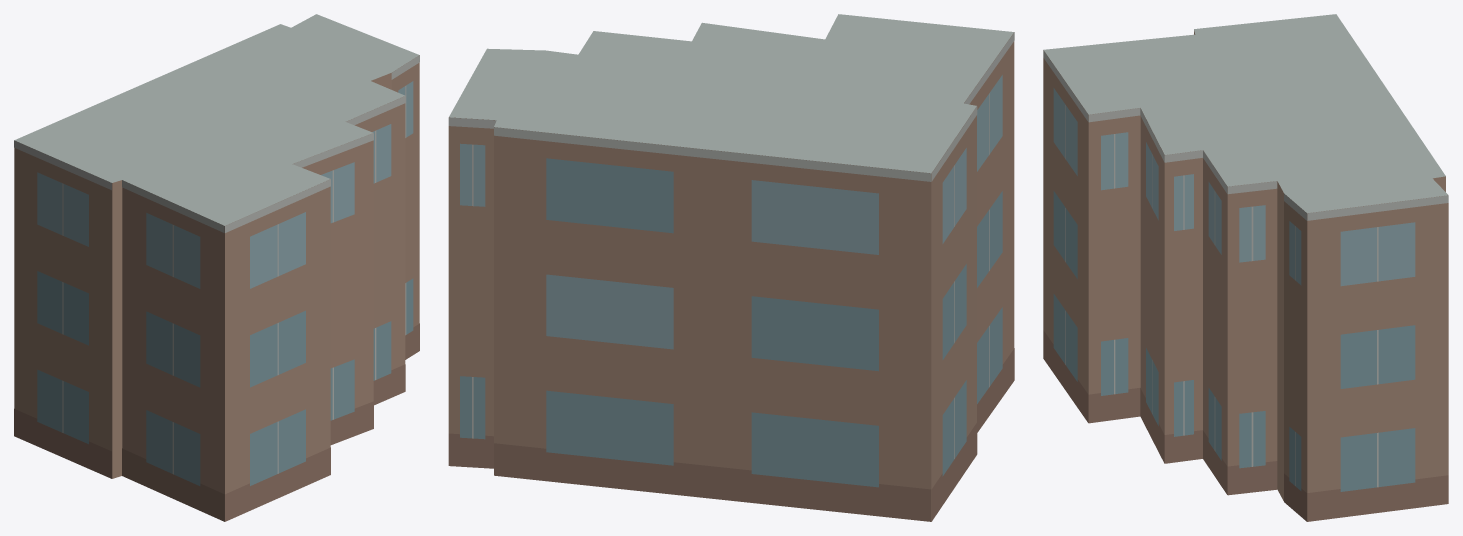
Rendered from survey-upis-32728031.glb.
3 renders of one model, left to right at view 1: azimuth 30°, elevation 25°; view 2: azimuth 150°, elevation 25°; view 3: azimuth 270°, elevation 25°, orthographic. The views are drawn at different scales.
Visible parts, largest first — view 1: survey-upis-32728031.tmp; view 2: survey-upis-32728031.tmp; view 3: survey-upis-32728031.tmp.
Part boxes in pixels (x1,y1,x2,y2): survey-upis-32728031.tmp: [14, 14, 419, 521]; survey-upis-32728031.tmp: [448, 14, 1014, 521]; survey-upis-32728031.tmp: [1043, 14, 1448, 521].
Bounding box in the file's own units: 13.58 × 9.8 × 11.67.
